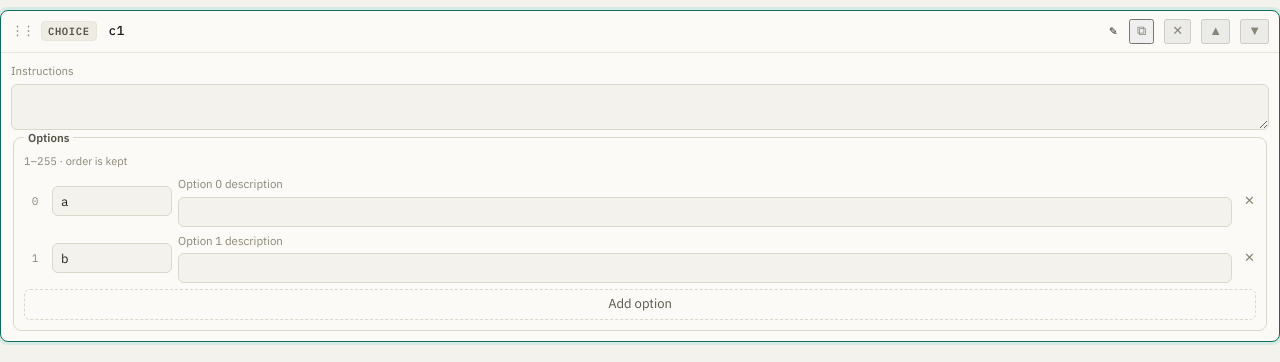
ChoiceForm › a __proto__ key shows its alert and leaves the store unchanged
Replace the text in the field named "Option 0 key" with "__proto__": (112, 202) [52,186,172,216]
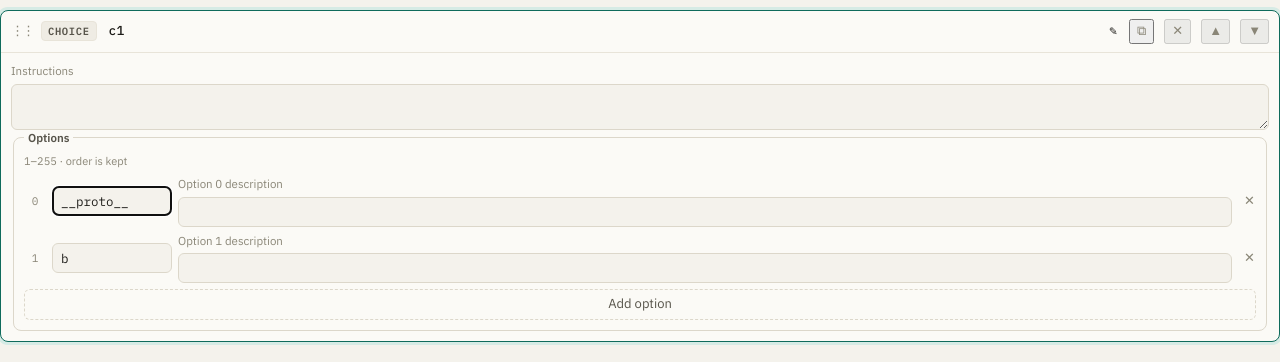
Press Enter
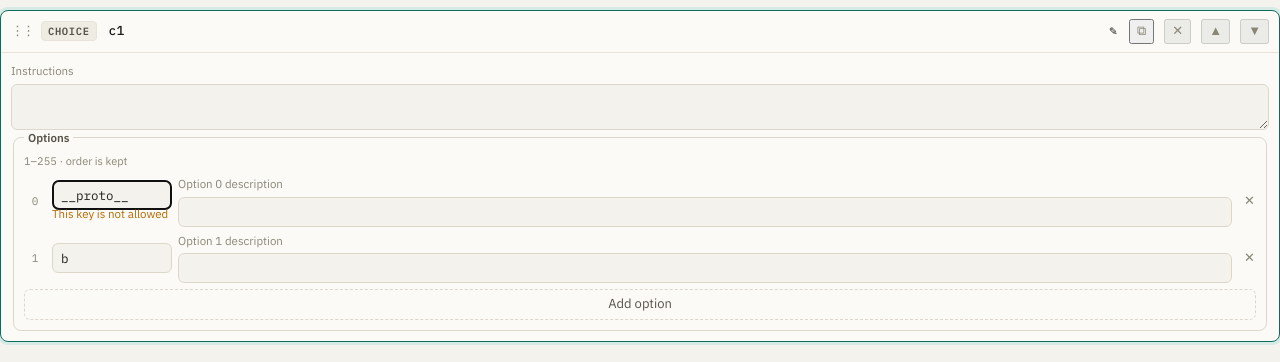
Now the message reads "This key is not allowed", box [52,206,168,221]
